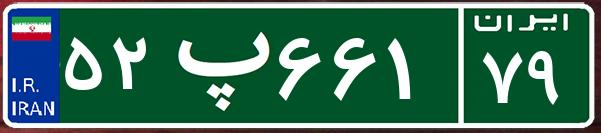1: (385, 28, 445, 110)
2: (110, 28, 158, 105)
5: (57, 26, 110, 107)
6: (273, 28, 330, 110), (330, 28, 385, 110)
7: (475, 38, 525, 113)
9: (525, 38, 570, 115)
پ: (158, 15, 273, 115)
